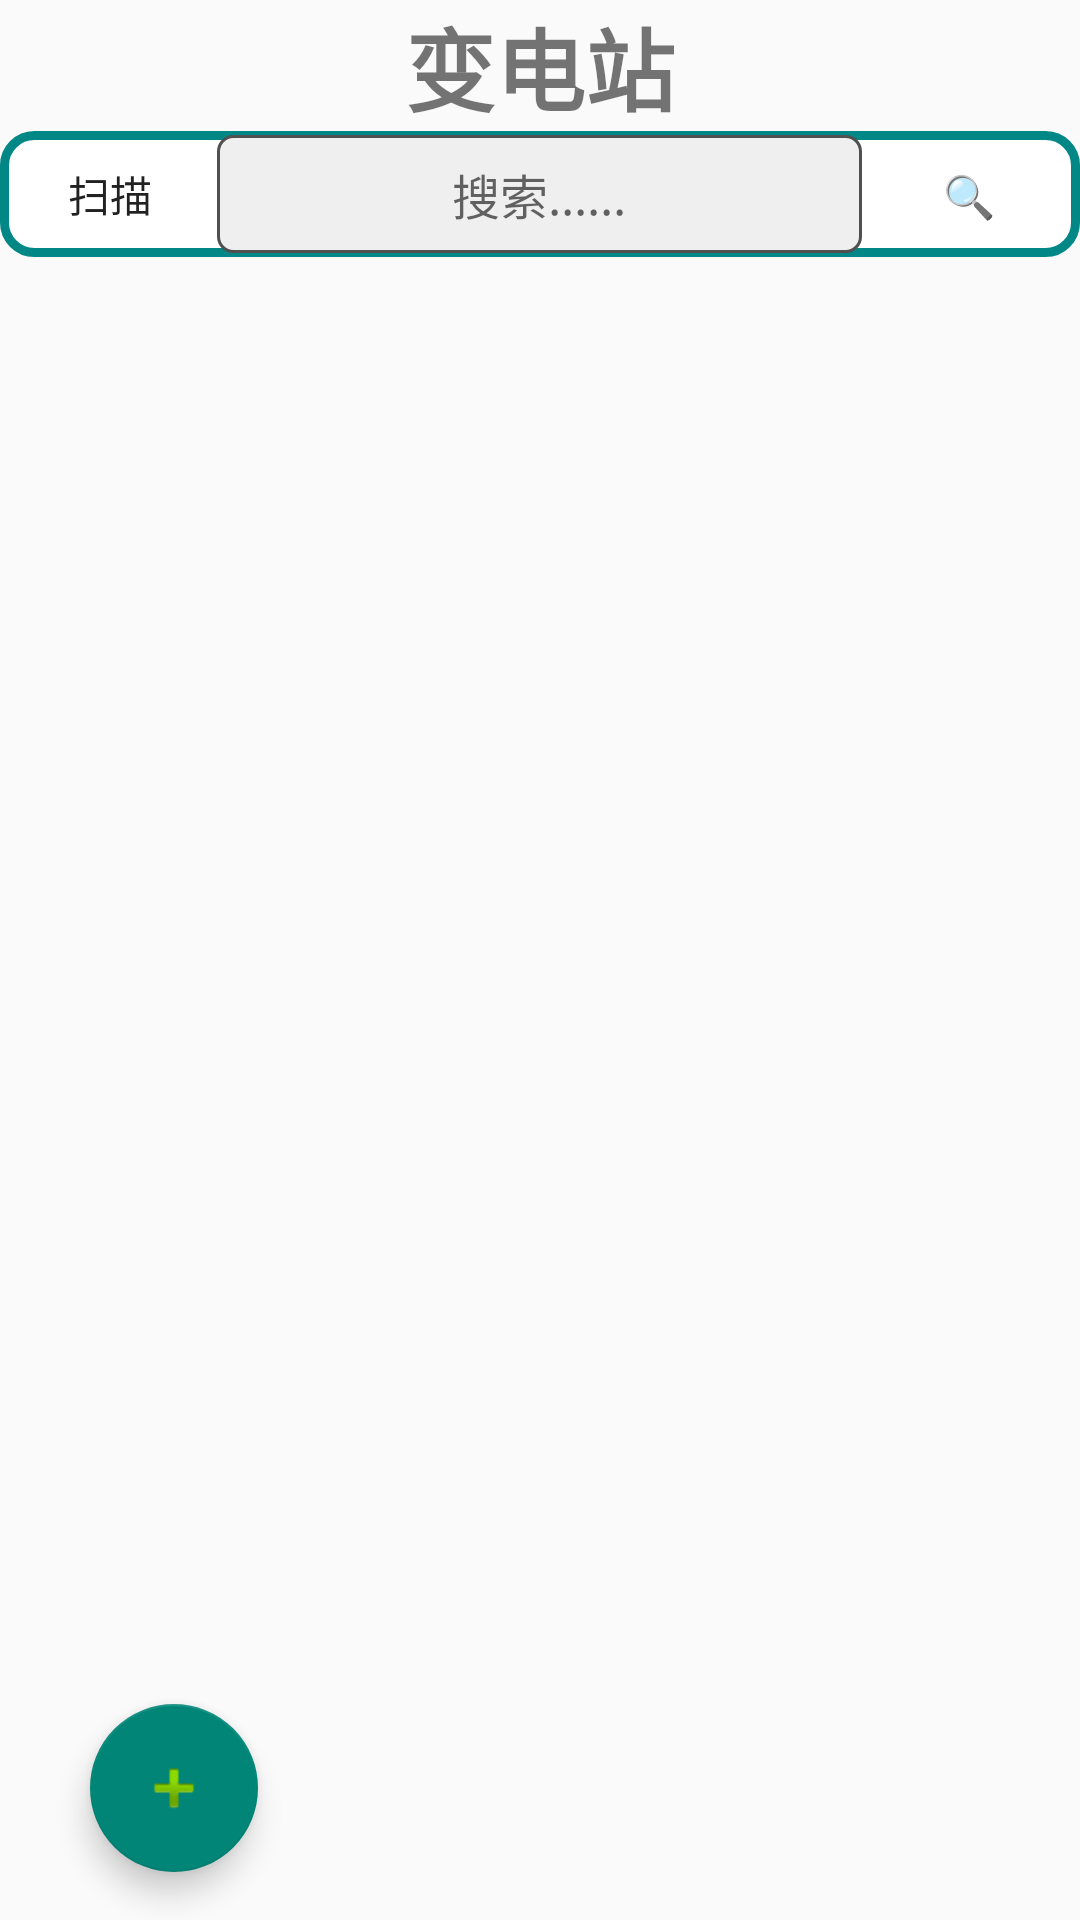

Icons on this 1080px×1920px Android screen, each with its box as bbox=(x1, y1, x2, y2):
add: bbox=(90, 1704, 258, 1872)
